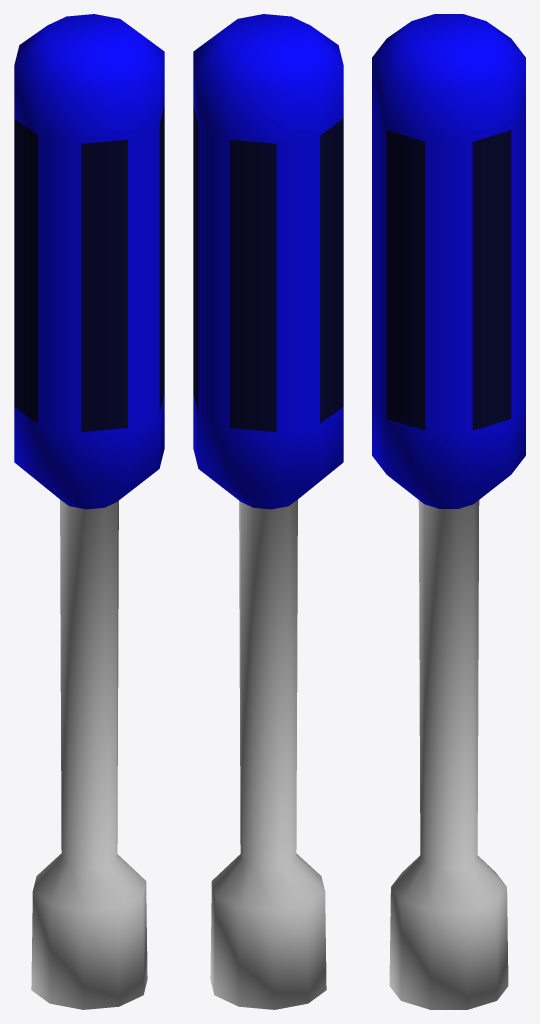
File: screwdriver.obj
3 renders of one model, left to right at view 1: azimuth 30°, elevation 25°; view 2: azimuth 150°, elevation 25°; view 3: azimuth 270°, elevation 25°, orthographic.
Parts seen in each view (by area): view 1: Cylinder; view 2: Cylinder; view 3: Cylinder.
Boxes of the visible parts, left/top/right/bottom form: Cylinder: left=14, top=14, right=164, bottom=1009; Cylinder: left=193, top=14, right=343, bottom=1009; Cylinder: left=372, top=14, right=525, bottom=1009.
Bounding box in the file's own units: 0.0361 × 0.2598 × 0.038.
